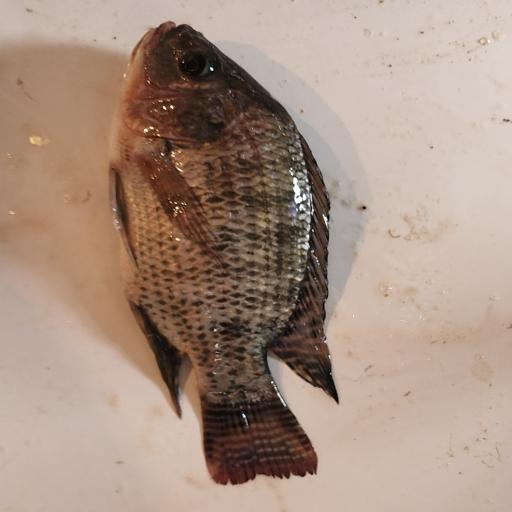Tilapia: (109, 20, 341, 486)
